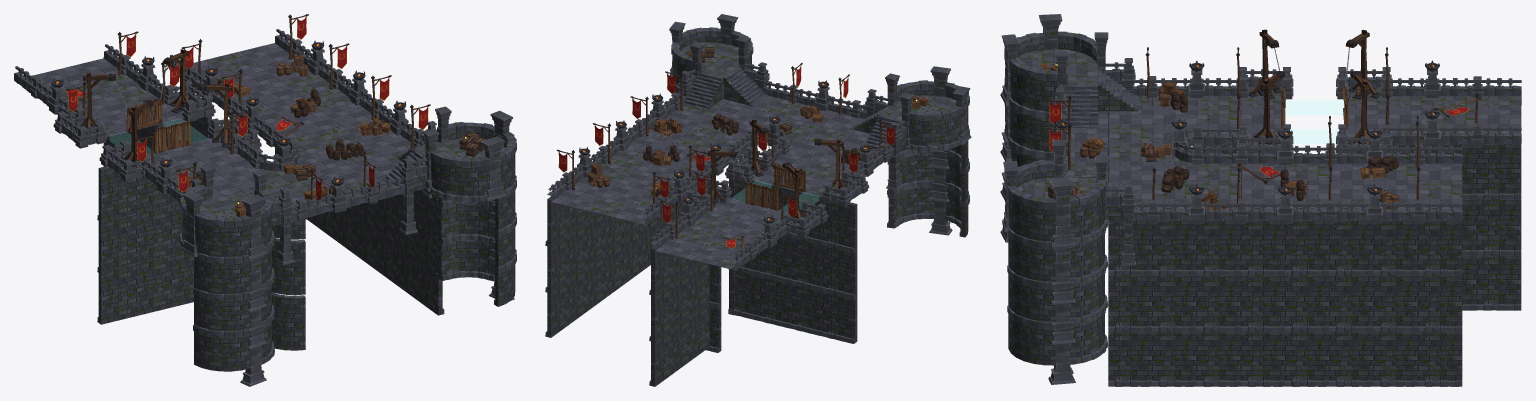
The model's file is ExterirorWallsAssets.gltf.
3 renders of one model, left to right at view 1: azimuth 30°, elevation 25°; view 2: azimuth 150°, elevation 25°; view 3: azimuth 270°, elevation 25°, orthographic. The views are drawn at different scales.
Parts seen in each view (by area): view 1: P_MOD_Wall_01_E_straight_large (×18), P_MOD_Wall_01_E_concave_med (×8), P_MOD_Wall_01_M_concave_med (×3), P_MOD_Wall_01_E_concave_large (×2), P_PROP_cage_holder_dungeon (×4), P_MOD_Column_01_large (×5), P_MOD_WallCover_01_E_concave (1) (×3), P_MOD_WallCover_01_M_concave (2) (×2), P_PROP_woodbridge_dungeon_09, MOD_Floor_01_O_straight_med (1), MOD_Floor_01_O_straight_med (7), MOD_Floor_01_O_straight_med (+26 smaller); view 2: P_MOD_Wall_01_E_straight_large (×32), P_MOD_Wall_01_M_concave_med (×3), P_PROP_cage_holder_dungeon (×4), P_MOD_Stairs_01_E_straight_2_half (1) (×2), P_MOD_Wall_01_E_concave_med (×2), P_MOD_WallCover_01_M_concave (2) (×2), P_MOD_Stairs_01_E_straight_2_half, P_PROP_woodbridge_dungeon_09 (1), MOD_Floor_01_O_straight_med (4), MOD_Floor_01_O_straight_med (52), MOD_Floor_01_O_straight_med (1), MOD_Floor_01_O_straight_med (16) (+28 smaller); view 3: P_MOD_Wall_01_E_straight_large (×30), P_MOD_Wall_01_M_concave_med (×6), P_MOD_Wall_01_E_concave_med (×4), P_PROP_cage_holder_dungeon (×4), P_MOD_WallCover_01_M_concave (2) (×4), P_MOD_Column_01_large (×3), P_MOD_Stairs_01_E_straight_2_half, P_MOD_Floor_01_O_convex_med (×2), MOD_Floor_01_O_straight_med (31), MOD_Floor_01_O_straight_med (23), MOD_Floor_01_O_straight_med (52), MOD_Floor_01_O_straight_med (1) (+52 smaller).
Boxes of the visible parts, <box> form: P_MOD_Wall_01_E_straight_large (×18): <box>98,116,442,324</box>; P_MOD_Wall_01_E_concave_med (×8): <box>194,142,515,371</box>; P_MOD_Wall_01_M_concave_med (×3): <box>431,158,494,279</box>; P_MOD_Wall_01_E_concave_large (×2): <box>272,238,305,350</box>; P_PROP_cage_holder_dungeon (×4): <box>80,49,232,167</box>; P_MOD_Column_01_large (×5): <box>185,147,501,253</box>; P_MOD_WallCover_01_E_concave (1) (×3): <box>193,213,251,338</box>; P_MOD_WallCover_01_M_concave (2) (×2): <box>430,122,495,167</box>; P_PROP_woodbridge_dungeon_09: <box>154,120,190,153</box>; MOD_Floor_01_O_straight_med (1): <box>204,51,259,74</box>; MOD_Floor_01_O_straight_med (7): <box>249,81,300,104</box>; MOD_Floor_01_O_straight_med: <box>240,43,292,66</box>; P_MOD_Wall_01_E_straight_large (×32): <box>547,176,857,386</box>; P_MOD_Wall_01_M_concave_med (×3): <box>888,114,961,228</box>; P_PROP_cage_holder_dungeon (×4): <box>702,119,847,224</box>; P_MOD_Stairs_01_E_straight_2_half (1) (×2): <box>724,67,902,151</box>; P_MOD_Wall_01_E_concave_med (×2): <box>945,157,968,237</box>; P_MOD_WallCover_01_M_concave (2) (×2): <box>887,80,962,120</box>; P_MOD_Stairs_01_E_straight_2_half: <box>683,73,722,110</box>; P_PROP_woodbridge_dungeon_09 (1): <box>745,182,778,210</box>; MOD_Floor_01_O_straight_med (4): <box>600,183,649,203</box>; MOD_Floor_01_O_straight_med (52): <box>684,244,732,265</box>; MOD_Floor_01_O_straight_med (1): <box>582,196,630,216</box>; MOD_Floor_01_O_straight_med (16): <box>673,130,722,150</box>; P_MOD_Wall_01_E_straight_large (×30): <box>1108,141,1521,380</box>; P_MOD_Wall_01_M_concave_med (×6): <box>1010,67,1104,358</box>; P_MOD_Wall_01_E_concave_med (×4): <box>1008,196,1056,365</box>; P_PROP_cage_holder_dungeon (×4): <box>1249,29,1380,144</box>; P_MOD_WallCover_01_M_concave (2) (×4): <box>1005,31,1106,206</box>; P_MOD_Column_01_large (×3): <box>1053,191,1070,372</box>; P_MOD_Stairs_01_E_straight_2_half: <box>1065,85,1098,127</box>; P_MOD_Floor_01_O_convex_med (×2): <box>1017,49,1097,195</box>; MOD_Floor_01_O_straight_med (31): <box>1108,124,1152,142</box>; MOD_Floor_01_O_straight_med (23): <box>1108,161,1152,179</box>; MOD_Floor_01_O_straight_med (52): <box>1477,105,1521,123</box>; MOD_Floor_01_O_straight_med (1): <box>1418,180,1462,198</box>.
Bounding box in the file's own units: 37.25 × 24.91 × 47.11.
18 materials, 17 textured.
